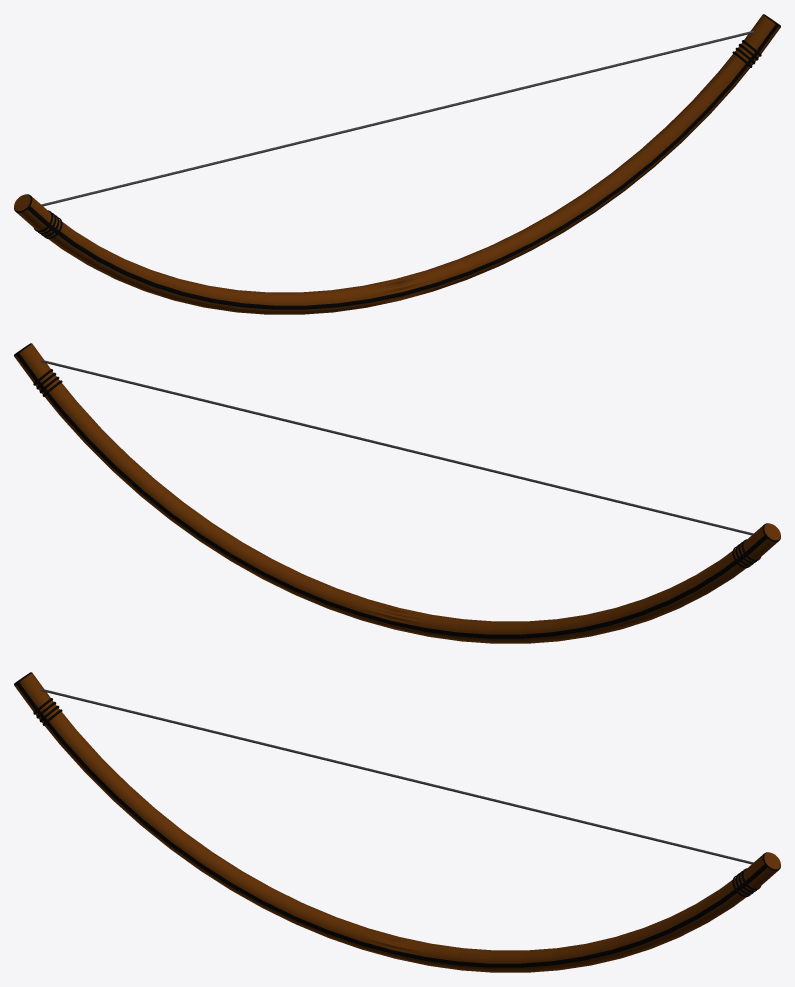
Rendered from Bow2.fbx.
3 views of the same model, one above another, from view 1: azimuth 30°, elevation 25°; view 2: azimuth 150°, elevation 25°; view 3: azimuth 330°, elevation 25° (orthographic).
Visible parts, largest first — view 1: Цилиндр; view 2: Цилиндр; view 3: Цилиндр.
Boxes of the visible parts, left/top/right/bottom form: Цилиндр: left=14, top=14, right=780, bottom=314; Цилиндр: left=14, top=343, right=780, bottom=643; Цилиндр: left=14, top=672, right=780, bottom=972.
Bounding box in the file's own units: 1431 × 348 × 39.96.
